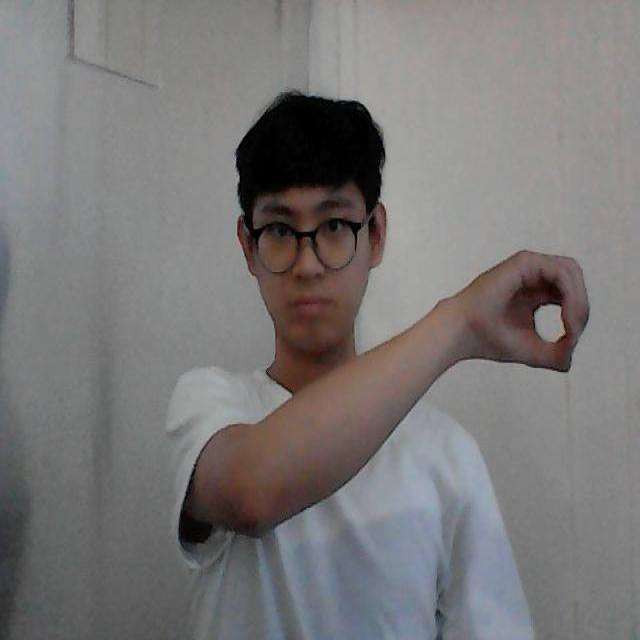O: (492, 243, 598, 371)
